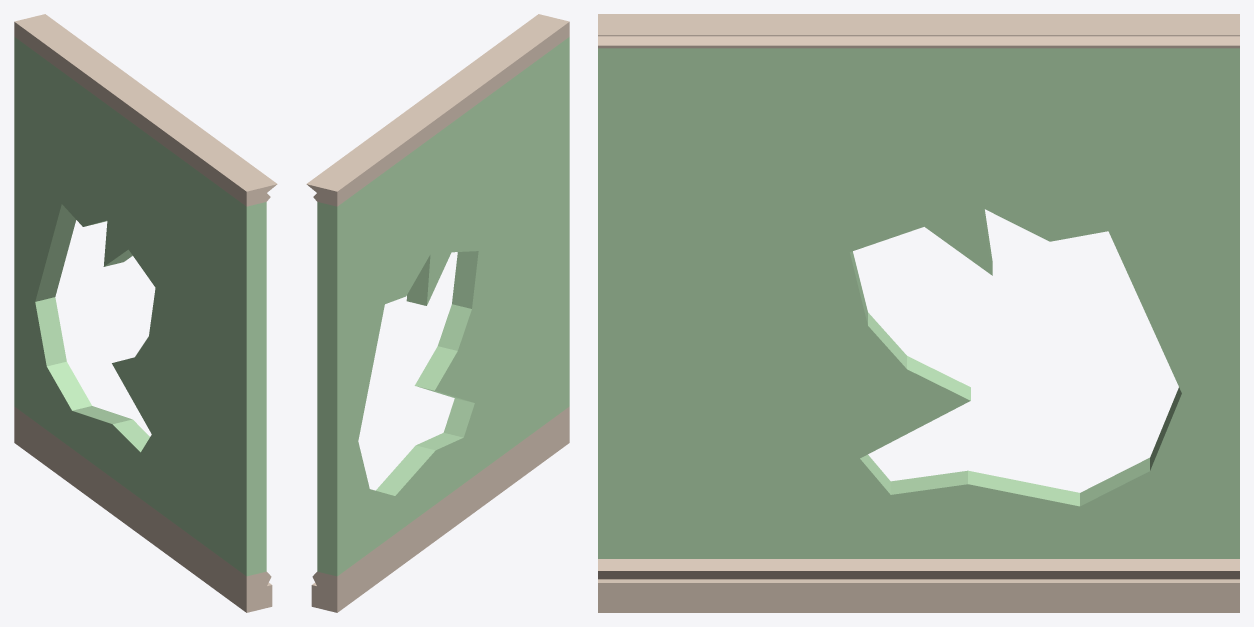
File: Wall_LargeHole2.fbx
3 renders of one model, left to right at view 1: azimuth 30°, elevation 25°; view 2: azimuth 150°, elevation 25°; view 3: azimuth 270°, elevation 25°, orthographic. The views are drawn at different scales.
Parts seen in each view (by area): view 1: Cube; view 2: Cube; view 3: Cube.
Part boxes in pixels (x1,y1,x2,y2): Cube: (14, 14, 277, 612); Cube: (306, 14, 569, 612); Cube: (598, 14, 1239, 612).
Bounding box in the file's own units: 61.8 × 800 × 800.
